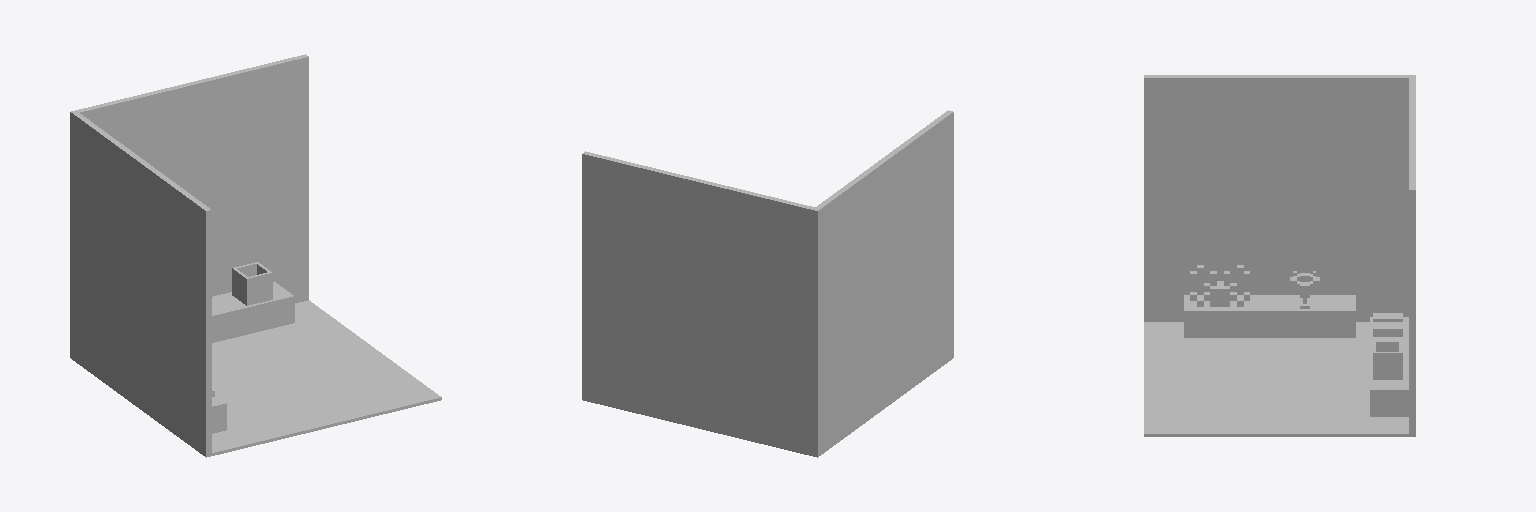
The model's file is a pope room-final.obj.
3 views of the same model, side by side, from view 1: azimuth 30°, elevation 25°; view 2: azimuth 150°, elevation 25°; view 3: azimuth 270°, elevation 25° (orthographic).
Size of the model in its own units: 82 by 82 by 82.